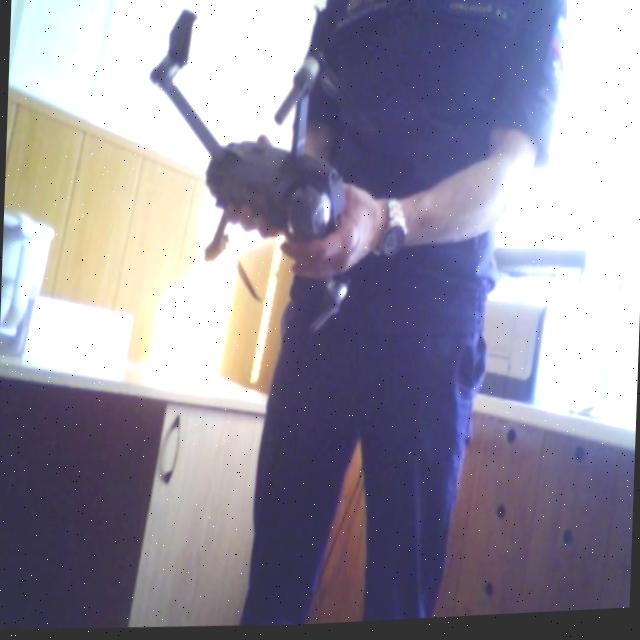drone: (140, 0, 416, 371)
